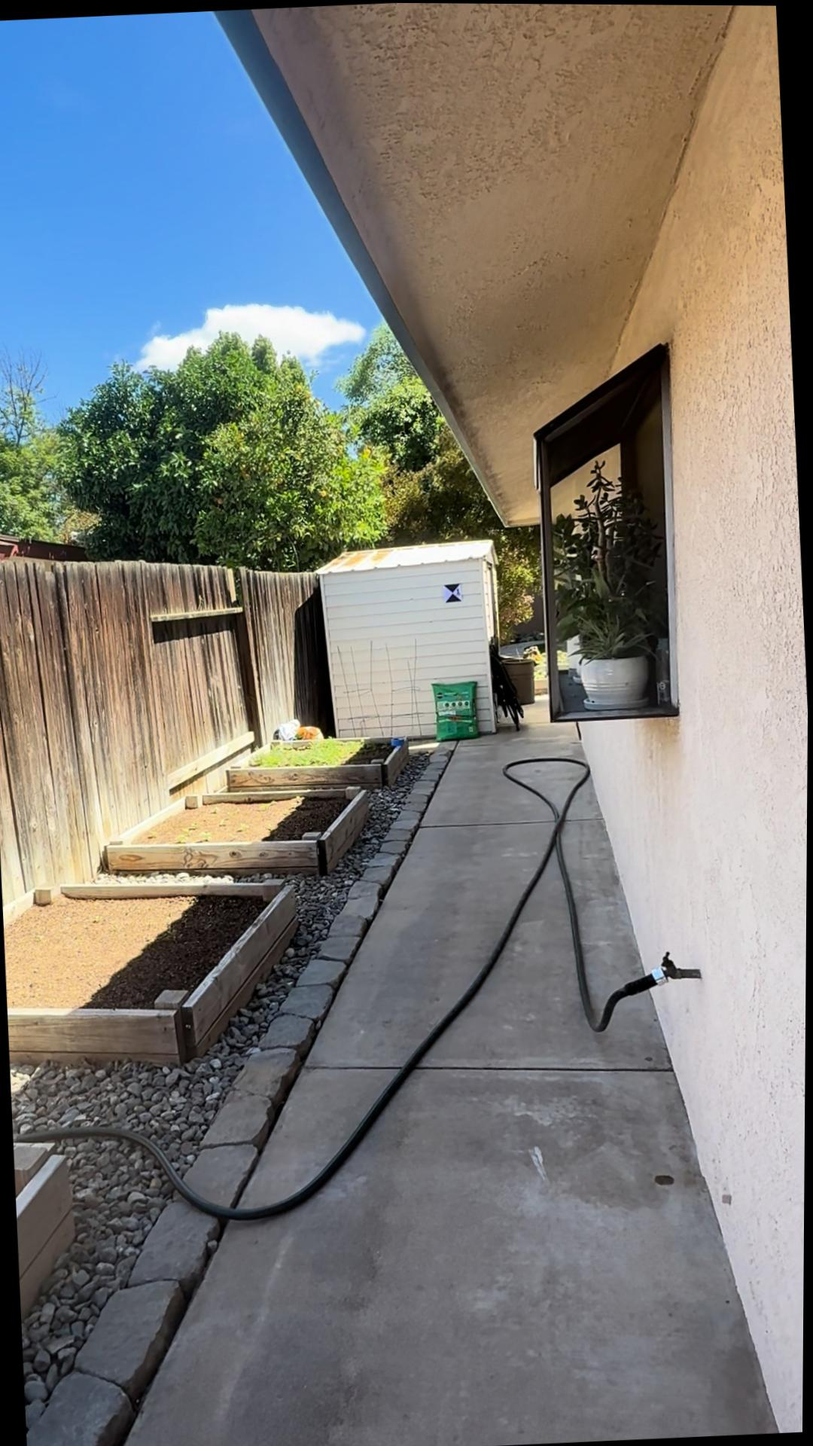target1: (443, 581, 464, 603)
